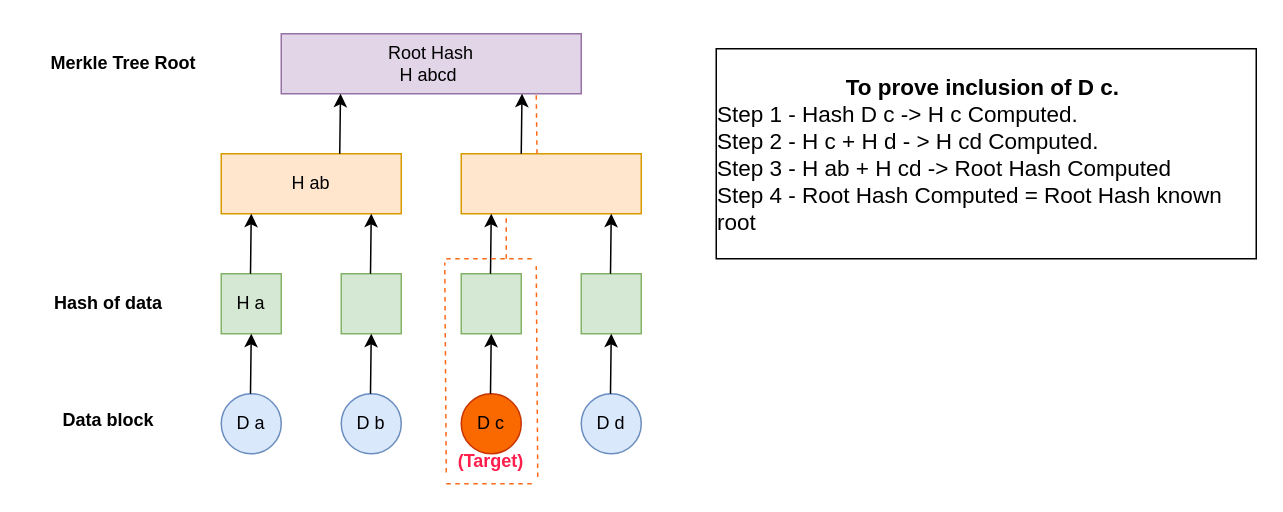
The diagram is 1283 pixels wide and 512 high, and some of its shapes have lost their labels. Here are the shapes that lost their labels. From the top down, the box of each, then its label:
(460, 152, 641, 214): H cd
(340, 272, 401, 334): H b
(460, 272, 521, 334): H c
(580, 272, 641, 334): H d
